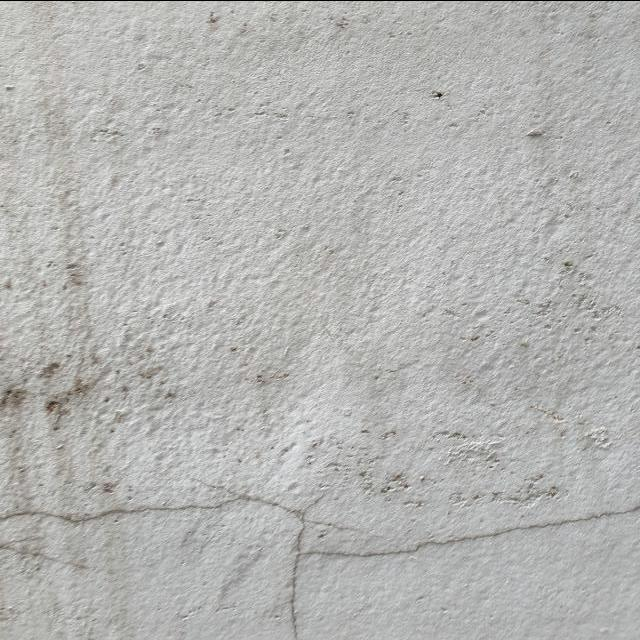SurfaceCrack: (304, 462, 640, 582)
